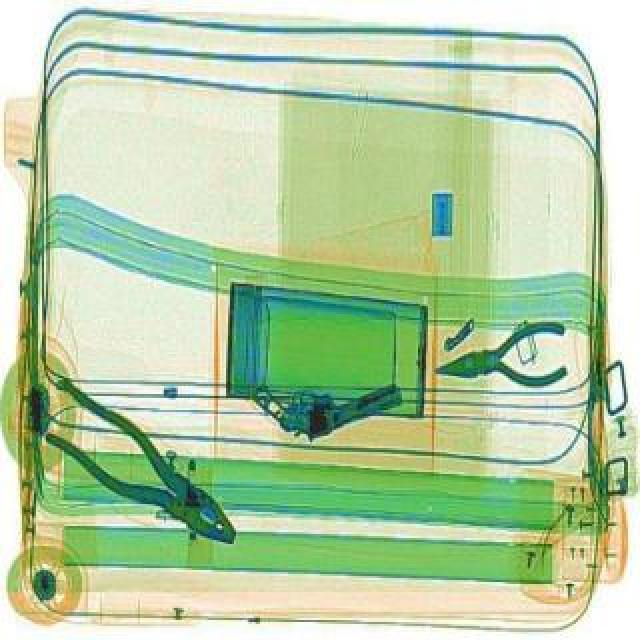gun: (250, 344, 406, 452)
wrench: (24, 372, 264, 560), (430, 314, 574, 396)
